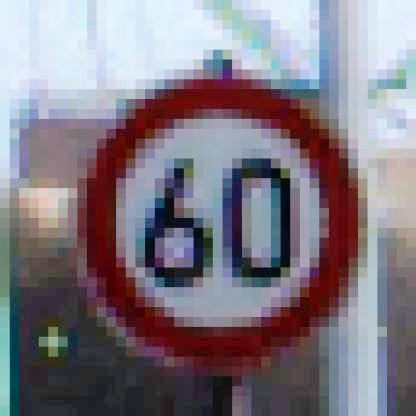Speed Limit -60-: (78, 73, 374, 371)
